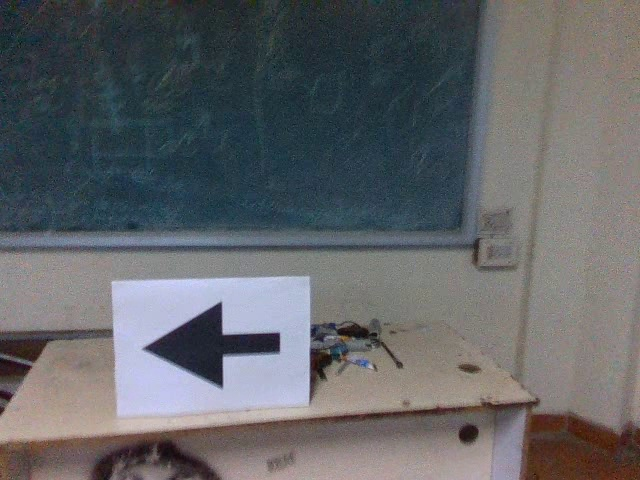Left: (135, 297, 289, 389)
